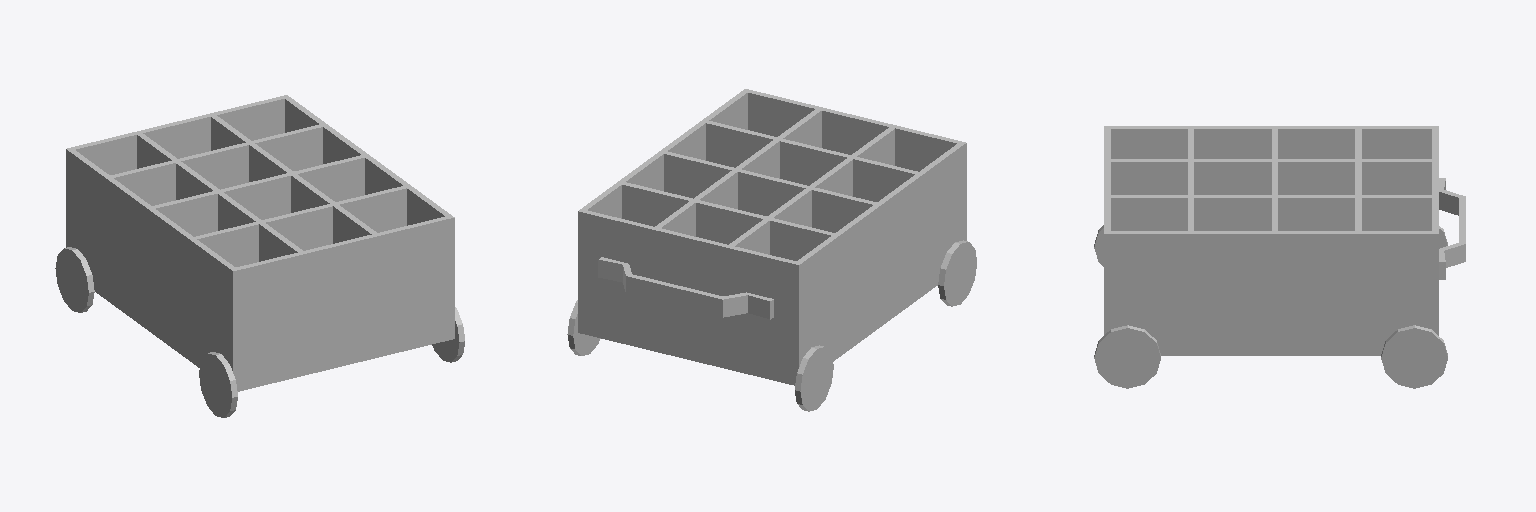
The model's file is cart_letters.obj.
The picture shows the model from 3 angles: view 1: azimuth 30°, elevation 25°; view 2: azimuth 150°, elevation 25°; view 3: azimuth 270°, elevation 25°; orthographic projection.
Parts seen in each view (by area): view 1: CartLetters; view 2: CartLetters; view 3: CartLetters.
Part boxes in pixels (left/top/right/bottom): CartLetters: left=55, top=95, right=464, bottom=417; CartLetters: left=567, top=89, right=976, bottom=411; CartLetters: left=1094, top=126, right=1465, bottom=388.
Size of the model in its own units: 0.4013 by 0.25 by 0.5542.